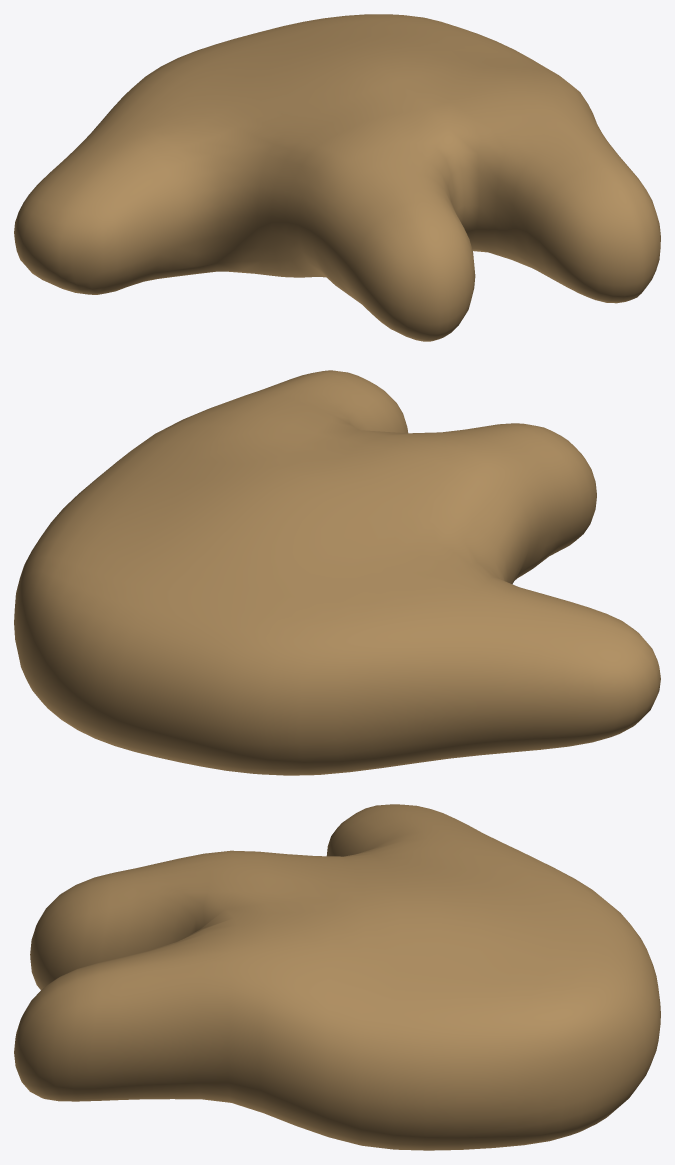
File: left-hand.fbx
3 renders of one model, top to bottom at view 1: azimuth 30°, elevation 25°; view 2: azimuth 150°, elevation 25°; view 3: azimuth 270°, elevation 25°, orthographic. The views are drawn at different scales.
Parts seen in each view (by area): view 1: Left Hand; view 2: Left Hand; view 3: Left Hand.
Part boxes in pixels (<box>): Left Hand: <box>14,14,660,341</box>; Left Hand: <box>14,370,660,775</box>; Left Hand: <box>14,804,660,1150</box>.
Size of the model in its own units: 15.99 by 5.25 by 15.84.
